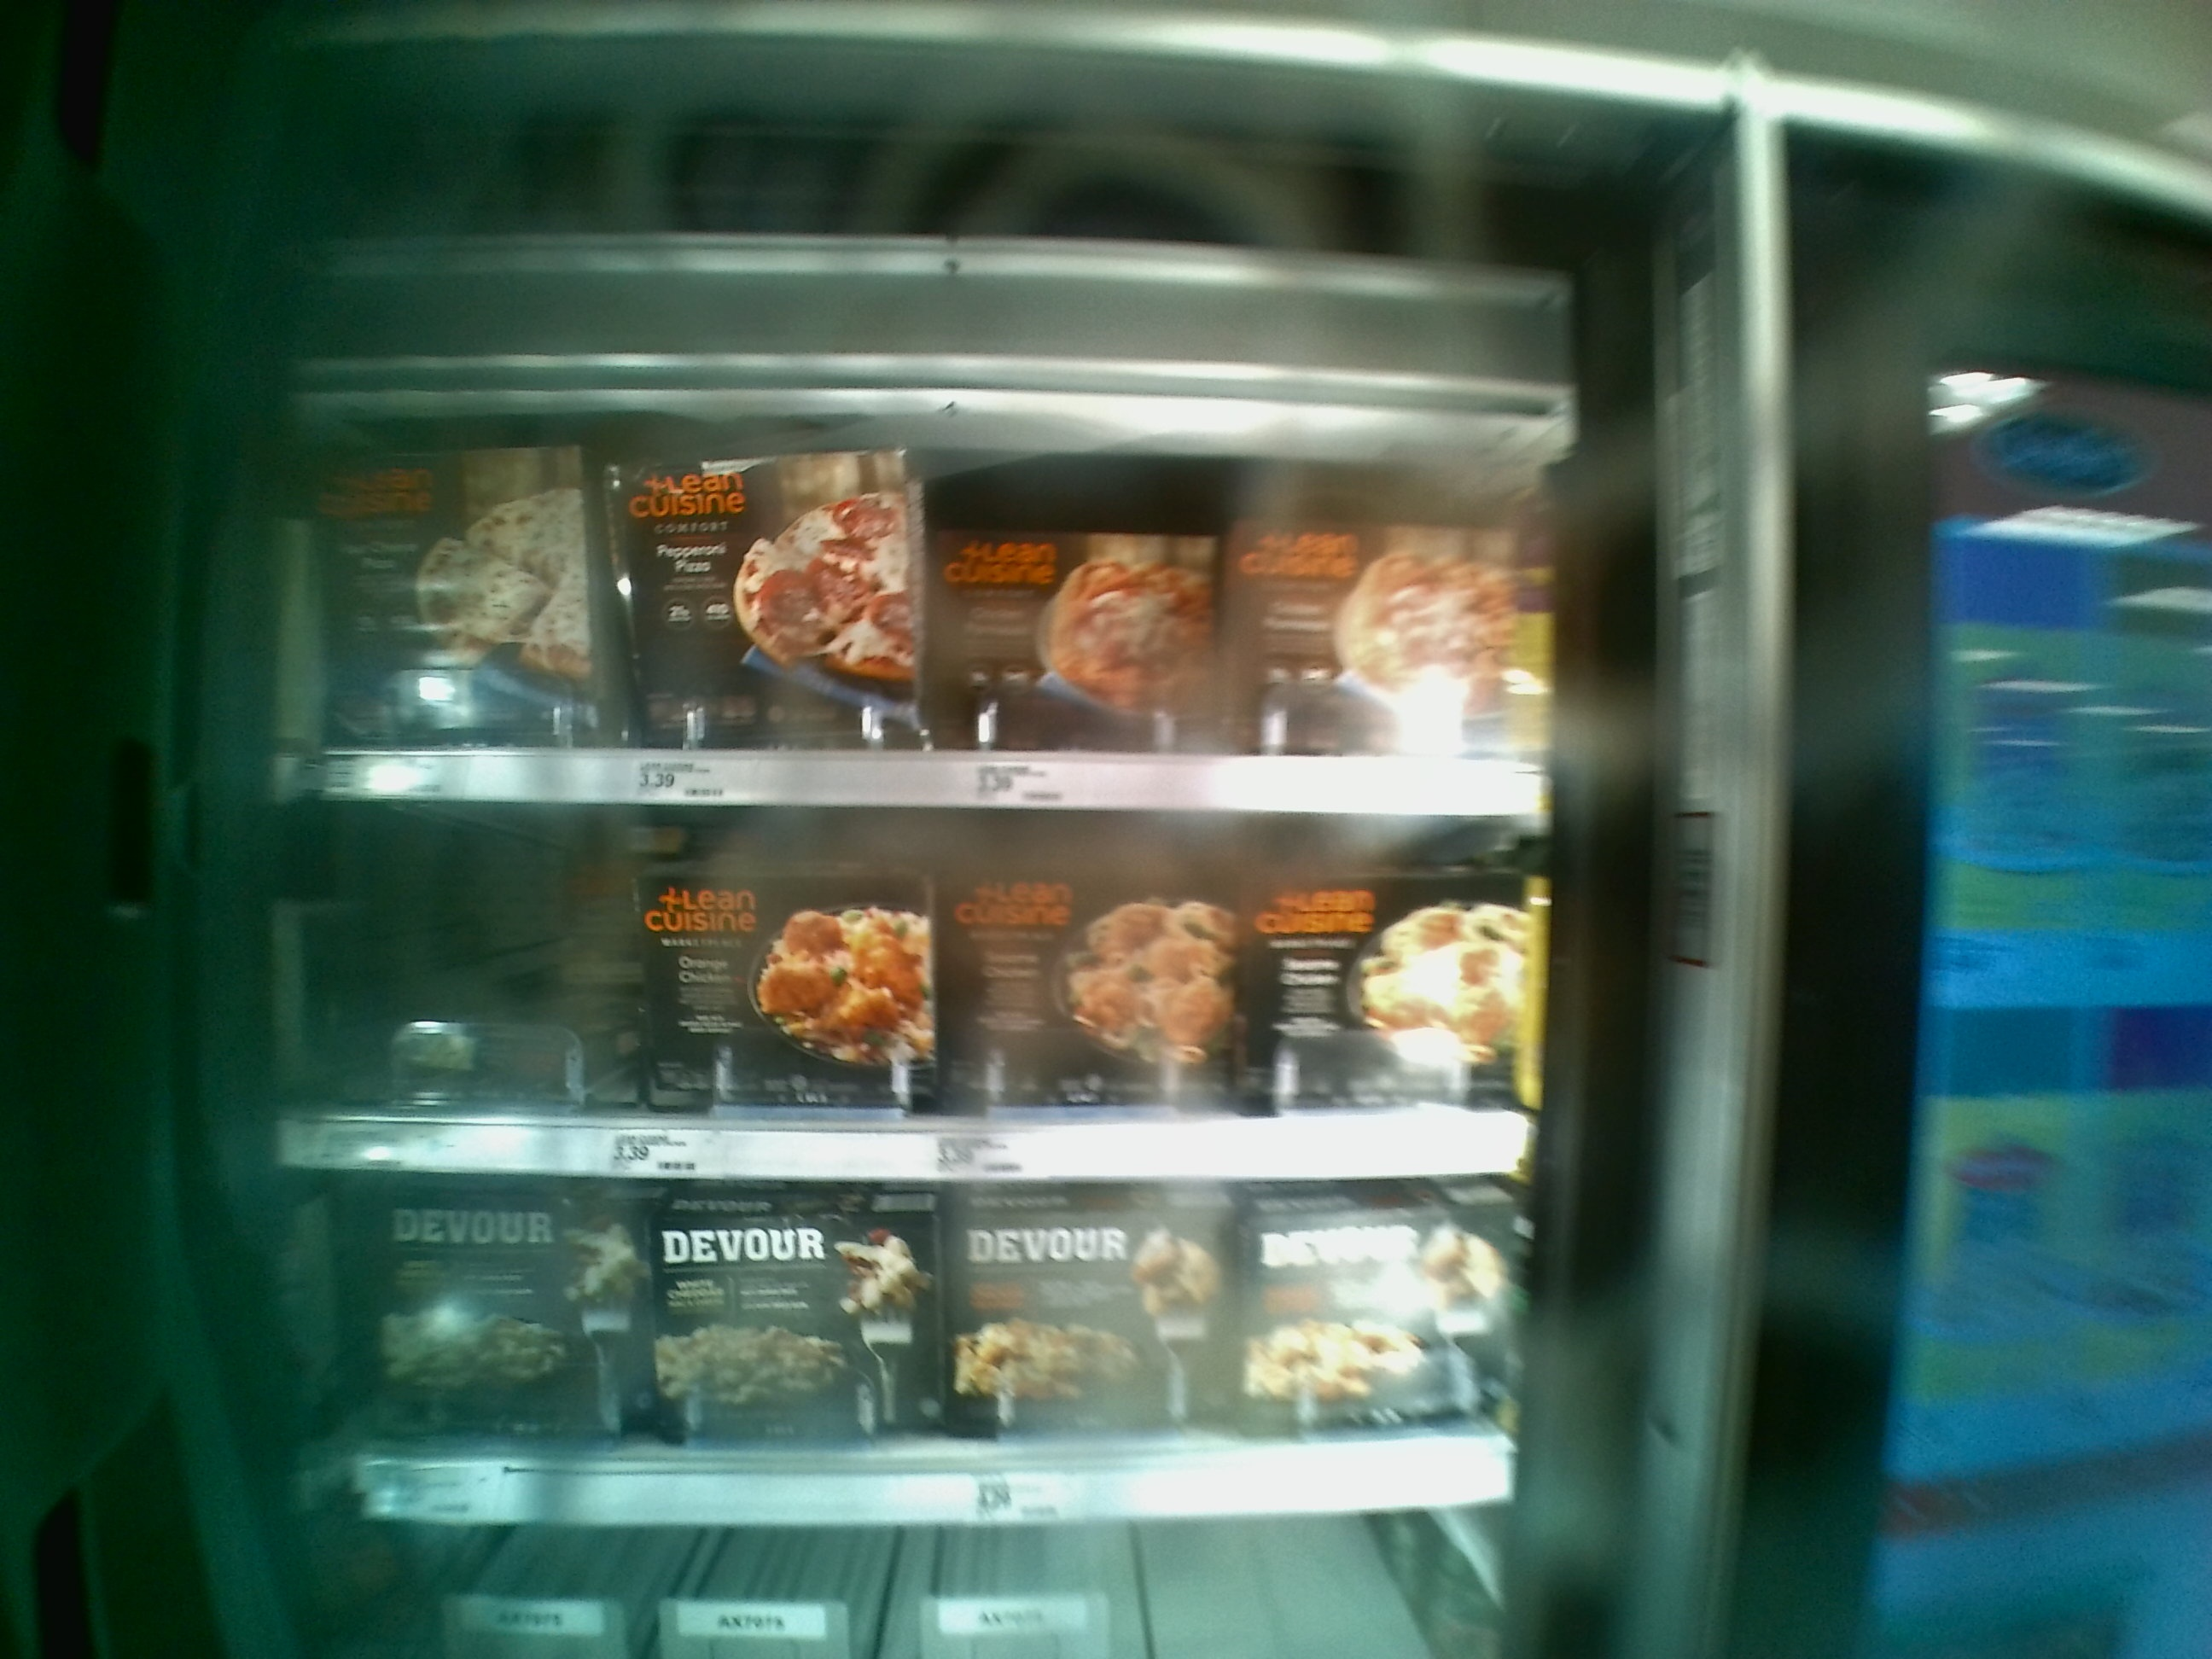shelf: (301, 397, 1536, 823), (273, 807, 1541, 1175), (284, 1171, 1541, 1520)
